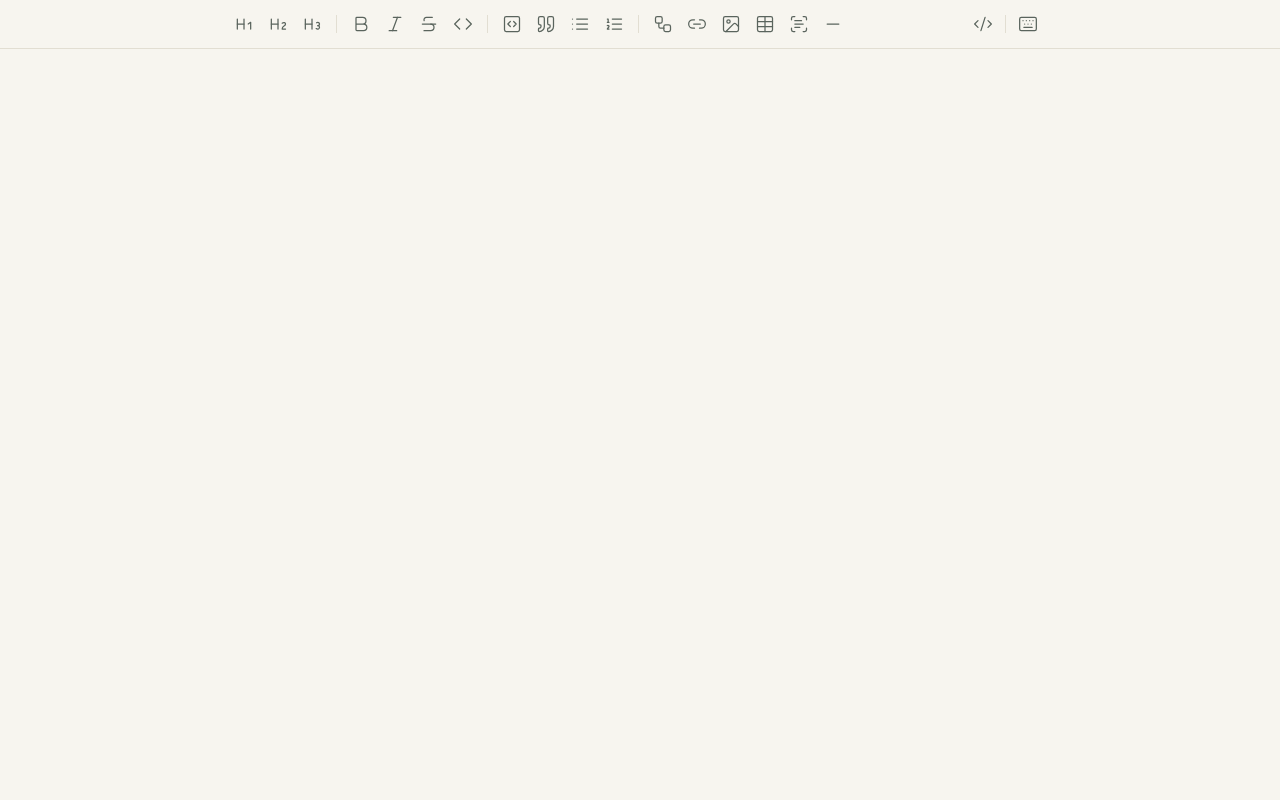
Scenario: EditorToolbar shortcuts › opens the cheat sheet from its toolbar button
Click the button named "Atajos de teclado" at (1028, 24), box [1012,8,1044,40]
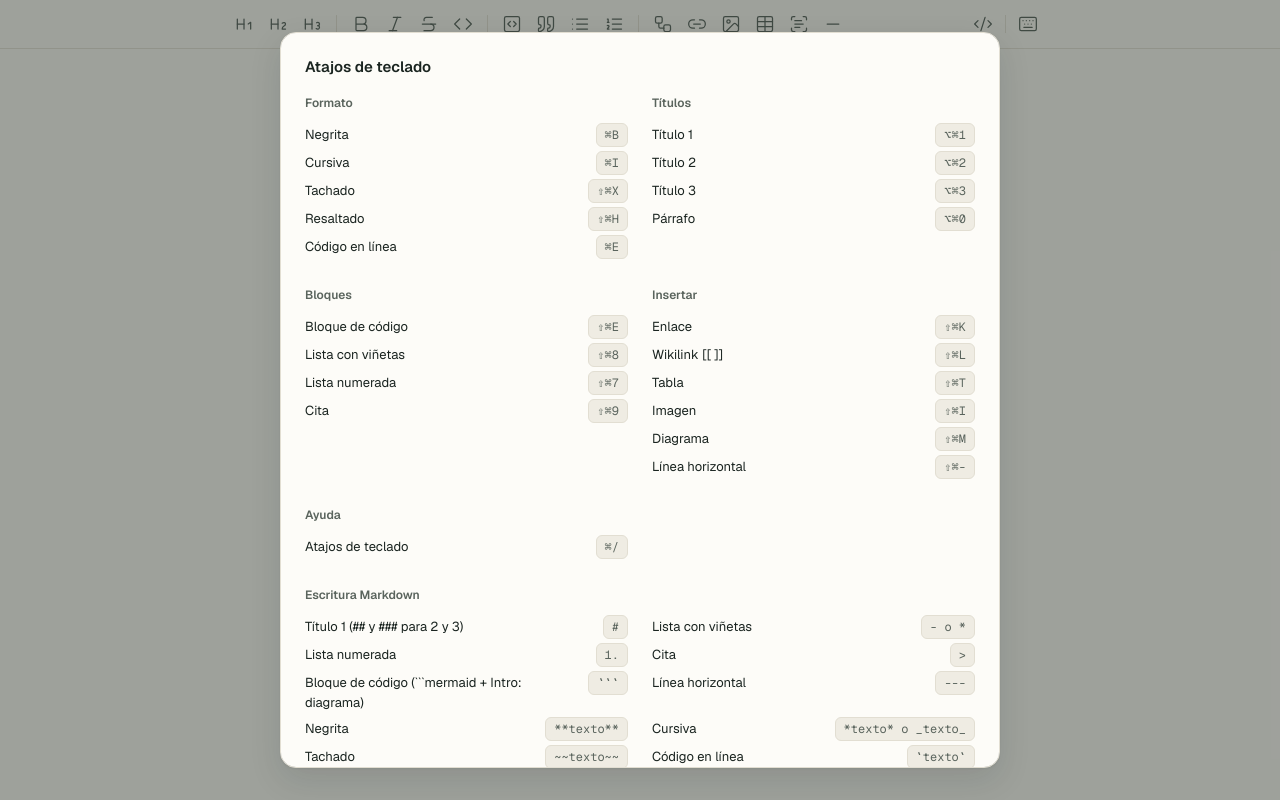
Expected: the dialog "Atajos de teclado" is shown, [280,32,1000,768]
